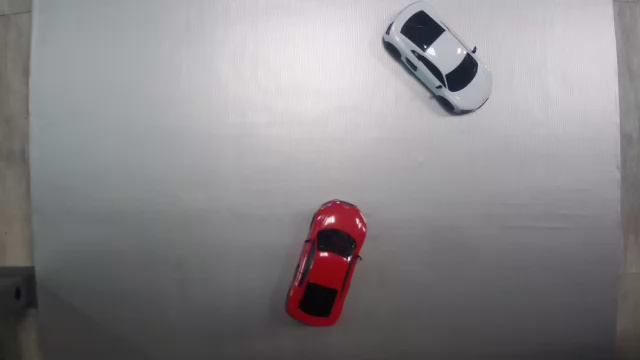car: (384, 1, 493, 114), (283, 197, 369, 329)
